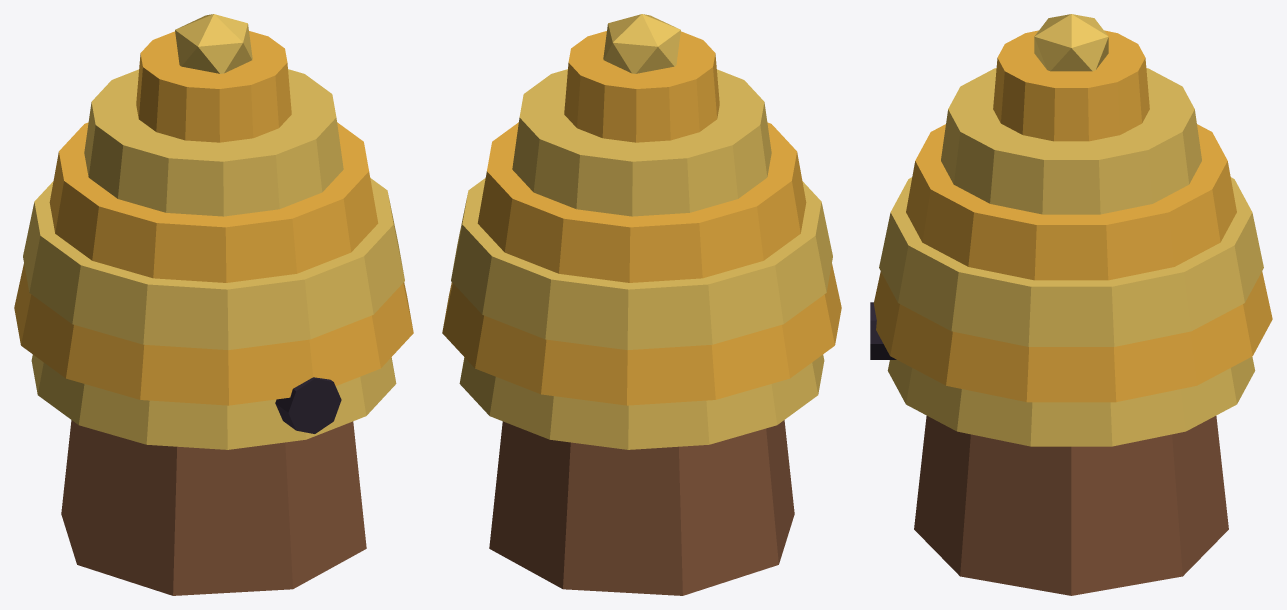
The model's file is beehive.glb.
3 views of the same model, side by side, from view 1: azimuth 30°, elevation 25°; view 2: azimuth 150°, elevation 25°; view 3: azimuth 270°, elevation 25° (orthographic).
Visible parts, largest first — view 1: beehive; view 2: beehive; view 3: beehive.
Boxes of the visible parts, box(x1,y1,x2,y2) form: beehive: box(14, 14, 413, 595); beehive: box(442, 14, 841, 595); beehive: box(870, 14, 1272, 595).
Size of the model in its own units: 0.8969 by 1.3 by 0.92.
